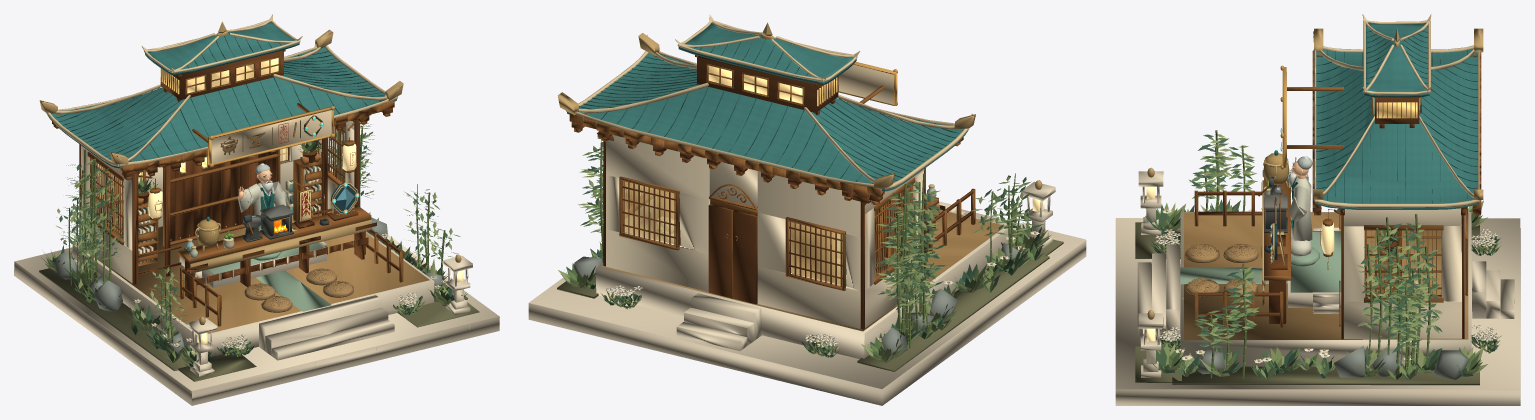
File: arts-lod2-f72fd92178b3.glb
The picture shows the model from 3 angles, left to right: view 1: azimuth 30°, elevation 25°; view 2: azimuth 150°, elevation 25°; view 3: azimuth 270°, elevation 25°; orthographic projection. The views are drawn at different scales.
Parts seen in each view (by area): view 1: SM_AR6_MAT_AR6_RoofPatina.007, SM_AR6_MAT_AR6_CutStone.007, SM_AR6_MAT_AR6_WarmTimber_AR6_RearDoorHinge_1.007, SM_AR6_MAT_AR6_TimberTrim_AR6_RearDoorHinge_-1.007, SM_AR6_MAT_AR6_FloorWood.007, SM_AR6_MAT_AR6_Foundation.007, SM_AR6_MAT_AR6_RoofCreamEdge.014, SM_AR6_MAT_AR6_GardenSoil.007, SM_AR6_MAT_AR6_Plaster.007, SM_AR6_MAT_AR6_PanelFoldShadow.007, SM_AR6_MAT_AR6_BambooCulm.007, SM_AR6_MAT_AR6_AgedGold_AR6_RearDoorHinge_1.007 (+19 smaller); view 2: SM_AR6_MAT_AR6_RoofPatina.007, SM_AR6_MAT_AR6_Plaster.007, SM_AR6_MAT_AR6_CutStone.007, SM_AR6_MAT_AR6_WarmTimber_AR6_RearDoorHinge_1.007, SM_AR6_MAT_AR6_TimberTrim_AR6_RearDoorHinge_-1.007, SM_AR6_MAT_AR6_Foundation.007, SM_AR6_MAT_AR6_RoofCreamEdge.014, SM_AR6_MAT_AR6_PanelFoldShadow.007, SM_AR6_MAT_AR6_RearWarmPaperGlass.004, SM_AR6_MAT_AR6_GardenSoil.007, SM_AR6_MAT_AR6_PaperFoliage2.007, SM_AR6_MAT_AR6_PaperFoliage4.007 (+10 smaller); view 3: SM_AR6_MAT_AR6_CutStone.007, SM_AR6_MAT_AR6_RoofPatina.007, SM_AR6_MAT_AR6_FloorWood.007, SM_AR6_MAT_AR6_Plaster.007, SM_AR6_MAT_AR6_Foundation.007, SM_AR6_MAT_AR6_TimberTrim_AR6_RearDoorHinge_-1.007, SM_AR6_MAT_AR6_GardenSoil.007, SM_AR6_MAT_AR6_RoofCreamEdge.014, SM_AR6_MAT_AR6_WarmTimber_AR6_RearDoorHinge_1.007, SM_AR6_MAT_AR6_PaperFoliage1.007, SM_AR6_MAT_AR6_PaperFoliage3.007, SM_AR6_MAT_AR6_PaperFoliage0.007 (+18 smaller).
Part boxes in pixels (box(x1,y1,x2,y2)): SM_AR6_MAT_AR6_RoofPatina.007: box(47, 22, 396, 168); SM_AR6_MAT_AR6_CutStone.007: box(14, 231, 499, 390); SM_AR6_MAT_AR6_WarmTimber_AR6_RearDoorHinge_1.007: box(52, 50, 400, 315); SM_AR6_MAT_AR6_TimberTrim_AR6_RearDoorHinge_-1.007: box(50, 49, 403, 326); SM_AR6_MAT_AR6_FloorWood.007: box(83, 202, 429, 333); SM_AR6_MAT_AR6_Foundation.007: box(14, 261, 499, 405); SM_AR6_MAT_AR6_RoofCreamEdge.014: box(43, 14, 400, 166); SM_AR6_MAT_AR6_GardenSoil.007: box(39, 239, 479, 381); SM_AR6_MAT_AR6_Plaster.007: box(81, 121, 354, 282); SM_AR6_MAT_AR6_PanelFoldShadow.007: box(51, 36, 384, 161); SM_AR6_MAT_AR6_BambooCulm.007: box(68, 126, 445, 342); SM_AR6_MAT_AR6_AgedGold_AR6_RearDoorHinge_1.007: box(39, 21, 461, 324); SM_AR6_MAT_AR6_RoofPatina.007: box(567, 23, 968, 191); SM_AR6_MAT_AR6_Plaster.007: box(606, 135, 924, 328); SM_AR6_MAT_AR6_CutStone.007: box(529, 181, 1085, 388); SM_AR6_MAT_AR6_WarmTimber_AR6_RearDoorHinge_1.007: box(571, 56, 973, 329); SM_AR6_MAT_AR6_TimberTrim_AR6_RearDoorHinge_-1.007: box(569, 55, 975, 298); SM_AR6_MAT_AR6_Foundation.007: box(528, 240, 1086, 405); SM_AR6_MAT_AR6_RoofCreamEdge.014: box(562, 14, 973, 189); SM_AR6_MAT_AR6_PanelFoldShadow.007: box(579, 39, 959, 183); SM_AR6_MAT_AR6_RearWarmPaperGlass.004: box(624, 181, 842, 284); SM_AR6_MAT_AR6_GardenSoil.007: box(557, 233, 1063, 371); SM_AR6_MAT_AR6_PaperFoliage2.007: box(570, 147, 1047, 362); SM_AR6_MAT_AR6_PaperFoliage4.007: box(558, 138, 1051, 362); SM_AR6_MAT_AR6_CutStone.007: box(1115, 171, 1520, 389); SM_AR6_MAT_AR6_RoofPatina.007: box(1315, 23, 1478, 209); SM_AR6_MAT_AR6_FloorWood.007: box(1184, 212, 1468, 340); SM_AR6_MAT_AR6_Plaster.007: box(1344, 208, 1465, 338); SM_AR6_MAT_AR6_Foundation.007: box(1115, 228, 1520, 405); SM_AR6_MAT_AR6_TimberTrim_AR6_RearDoorHinge_-1.007: box(1194, 50, 1481, 327); SM_AR6_MAT_AR6_GardenSoil.007: box(1135, 222, 1479, 385); SM_AR6_MAT_AR6_RoofCreamEdge.014: box(1313, 14, 1481, 208); SM_AR6_MAT_AR6_WarmTimber_AR6_RearDoorHinge_1.007: box(1198, 97, 1481, 339); SM_AR6_MAT_AR6_PaperFoliage1.007: box(1151, 134, 1501, 379); SM_AR6_MAT_AR6_PaperFoliage3.007: box(1145, 134, 1500, 379); SM_AR6_MAT_AR6_PaperFoliage0.007: box(1151, 138, 1497, 378).
Bounding box in the file's own units: 9.99 × 7.97 × 10.
81 materials, 10 textured.
